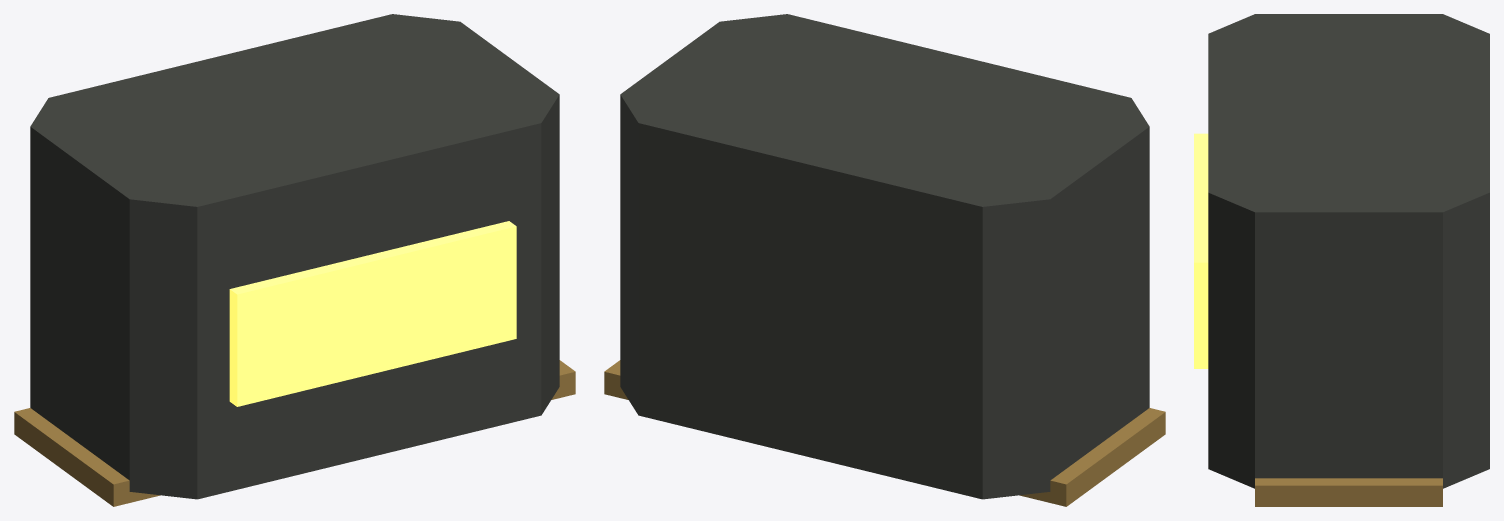
Rendered from b2_guide.glb.
3 views of the same model, side by side, from view 1: azimuth 30°, elevation 25°; view 2: azimuth 150°, elevation 25°; view 3: azimuth 270°, elevation 25° (orthographic). The views are drawn at different scales.
Visible parts, largest first — view 1: b2_guide; view 2: b2_guide; view 3: b2_guide.
Part boxes in pixels (x1=…): b2_guide: x1=14, y1=14, x2=575, y2=506; b2_guide: x1=604, y1=14, x2=1165, y2=506; b2_guide: x1=1194, y1=14, x2=1489, y2=506.
Size of the model in its own units: 0.43 by 0.27 by 0.252.
